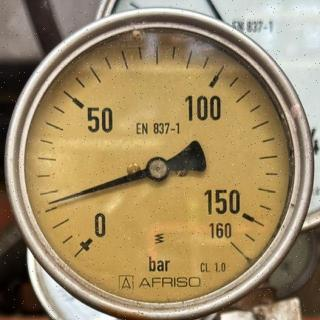gauge: (0, 22, 320, 320), (214, 233, 265, 270), (70, 224, 104, 260), (145, 156, 169, 182), (45, 197, 59, 207)
